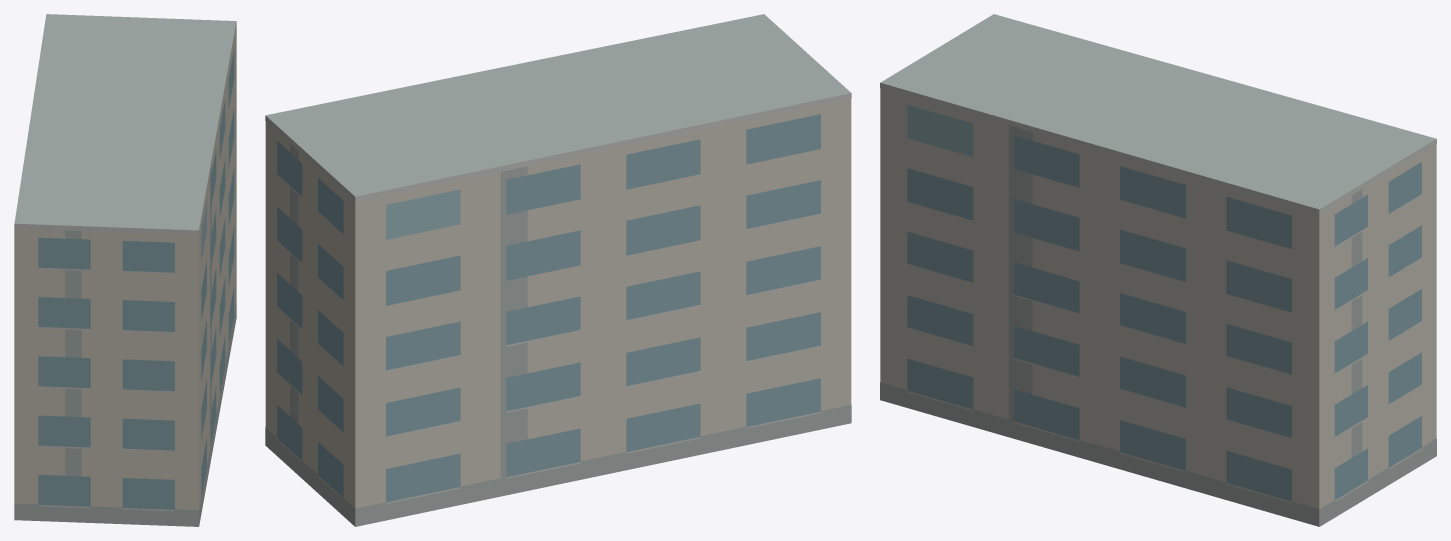
Rendered from survey-upis-32824333.glb.
3 renders of one model, left to right at view 1: azimuth 30°, elevation 25°; view 2: azimuth 150°, elevation 25°; view 3: azimuth 270°, elevation 25°, orthographic. The views are drawn at different scales.
Parts seen in each view (by area): view 1: survey-upis-32824333.tmp; view 2: survey-upis-32824333.tmp; view 3: survey-upis-32824333.tmp.
Boxes of the visible parts, x1,y1,x2,y2 form: survey-upis-32824333.tmp: (14, 14, 236, 526); survey-upis-32824333.tmp: (265, 14, 851, 526); survey-upis-32824333.tmp: (880, 14, 1436, 526).
Bounding box in the file's own units: 19.03 × 14.4 × 22.89.
